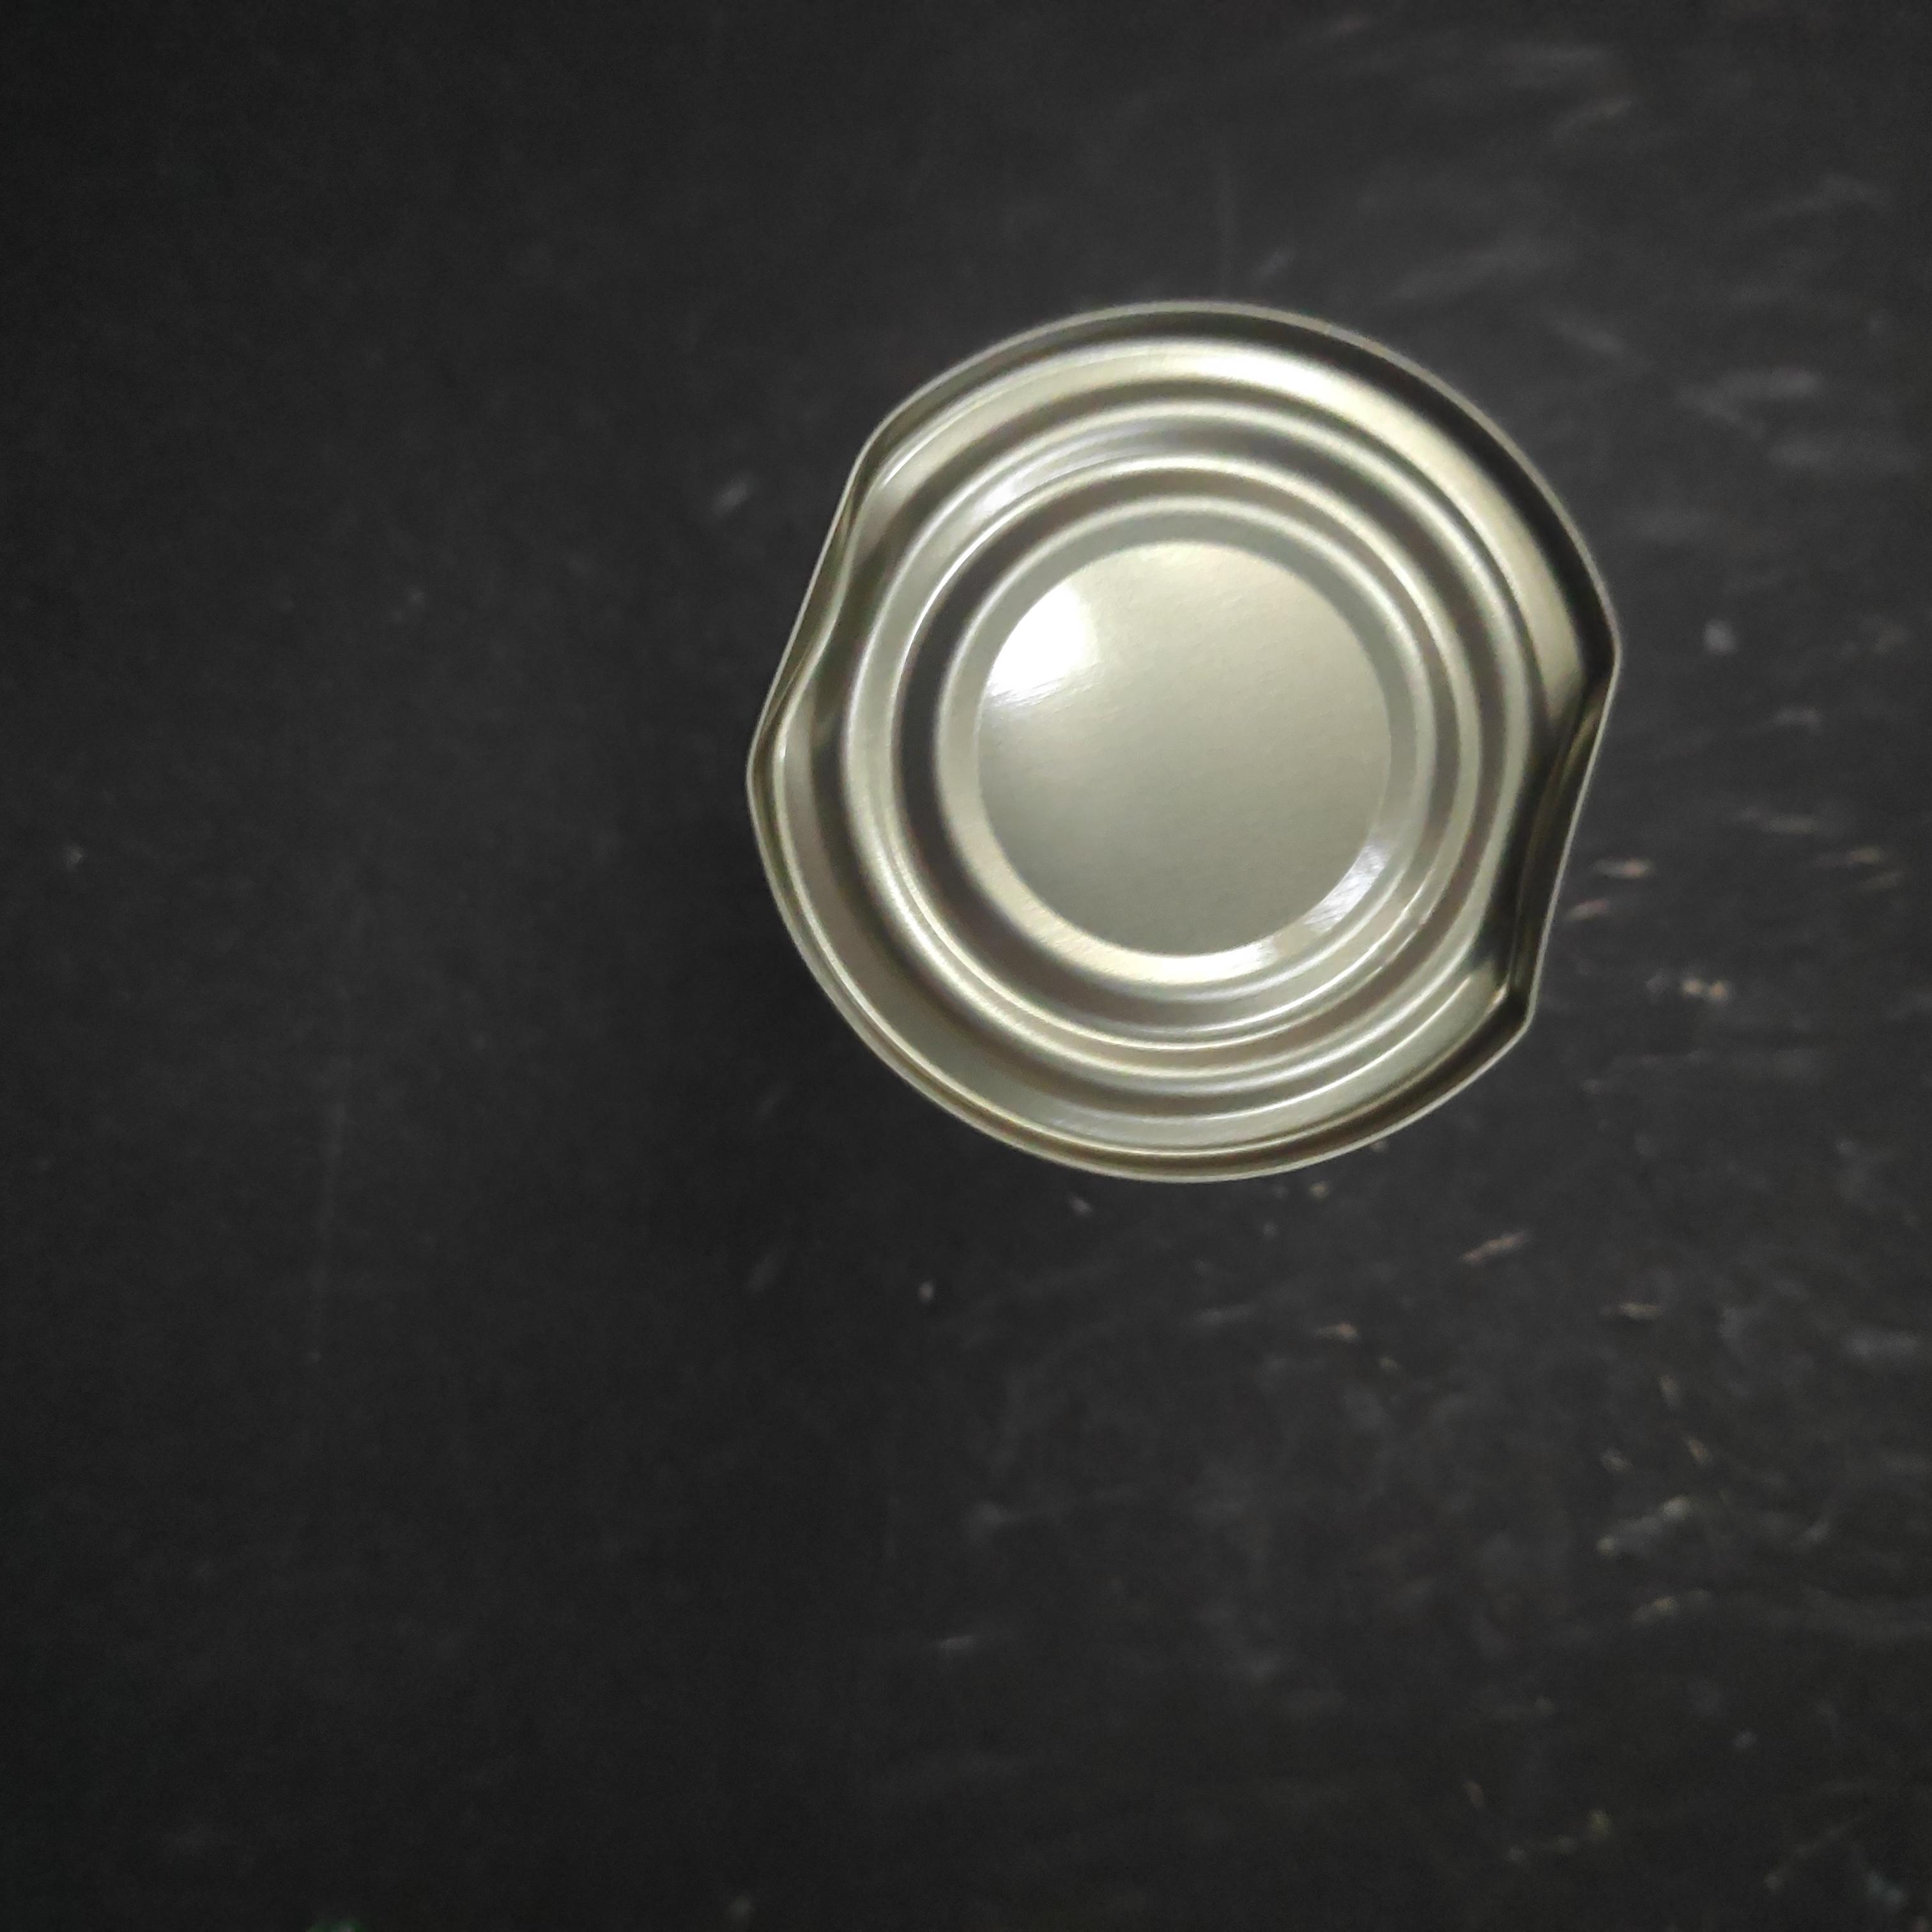Minor Defect: (292, 729, 1205, 1652)
